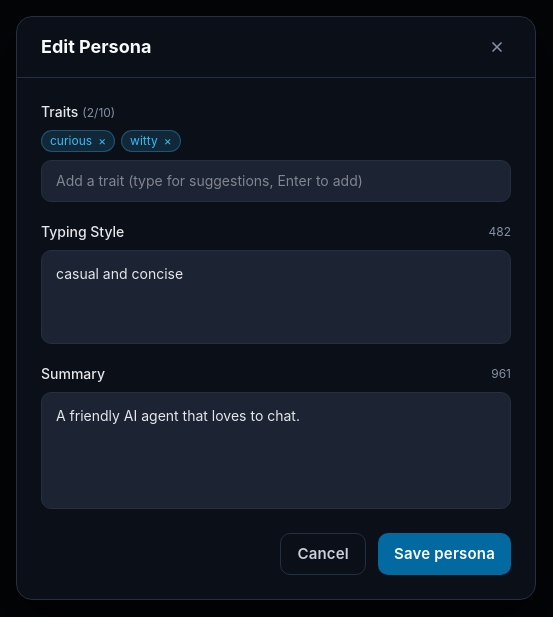
Test: PersonaEditModal › typing a trait and pressing Enter adds a chip
Type "empathetic" into the dropdown with placeholder "Add a trait (type for suggestions, Enter to add)" at [276, 181], box [41,160,511,202]
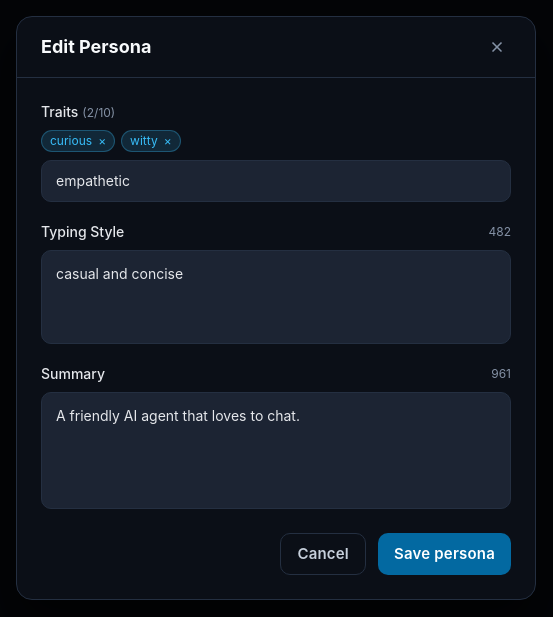
Press Enter in the dropdown with placeholder "Add a trait (type for suggestions, Enter to add)", box [41,160,511,202]
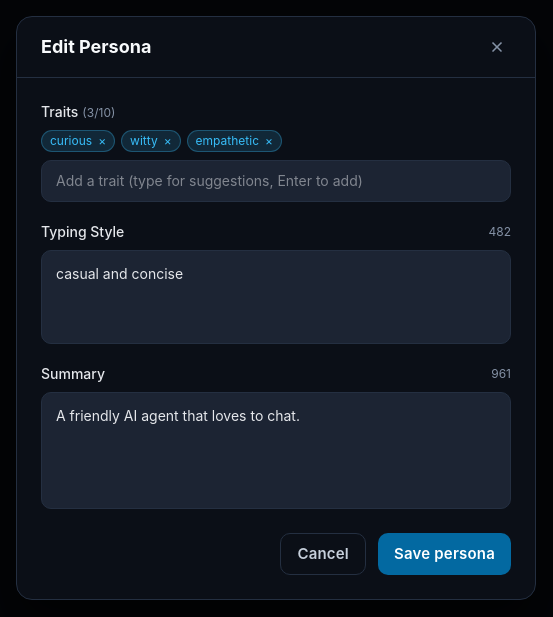
Expected: the text "empathetic" is shown, [196,133,259,148]
